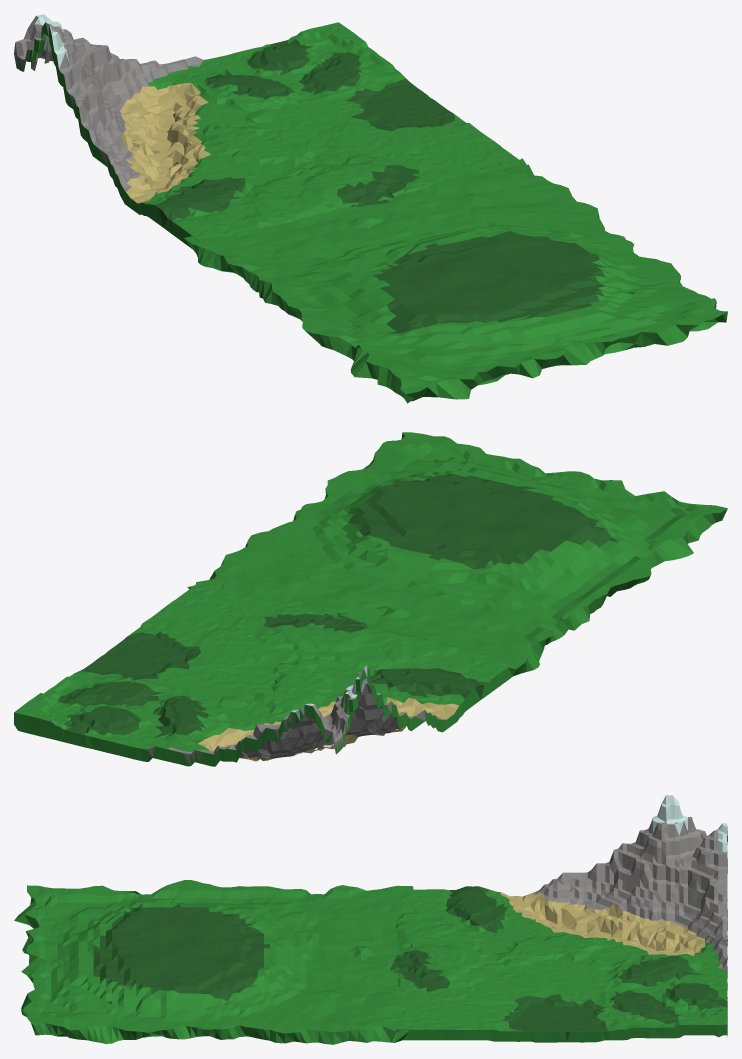
File: SendTheo1.fbx
3 views of the same model, one above another, from view 1: azimuth 30°, elevation 25°; view 2: azimuth 150°, elevation 25°; view 3: azimuth 270°, elevation 25° (orthographic). The views are drawn at different scales.
Parts seen in each view (by area): view 1: Plane; view 2: Plane; view 3: Plane.
Boxes of the visible parts, x1,y1,x2,y2 form: Plane: [14, 14, 727, 403]; Plane: [14, 432, 727, 766]; Plane: [14, 795, 727, 1044].
Bounding box in the file's own units: 19207 × 6614 × 38133.
